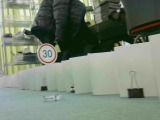speed_30: (36, 43, 59, 66)
